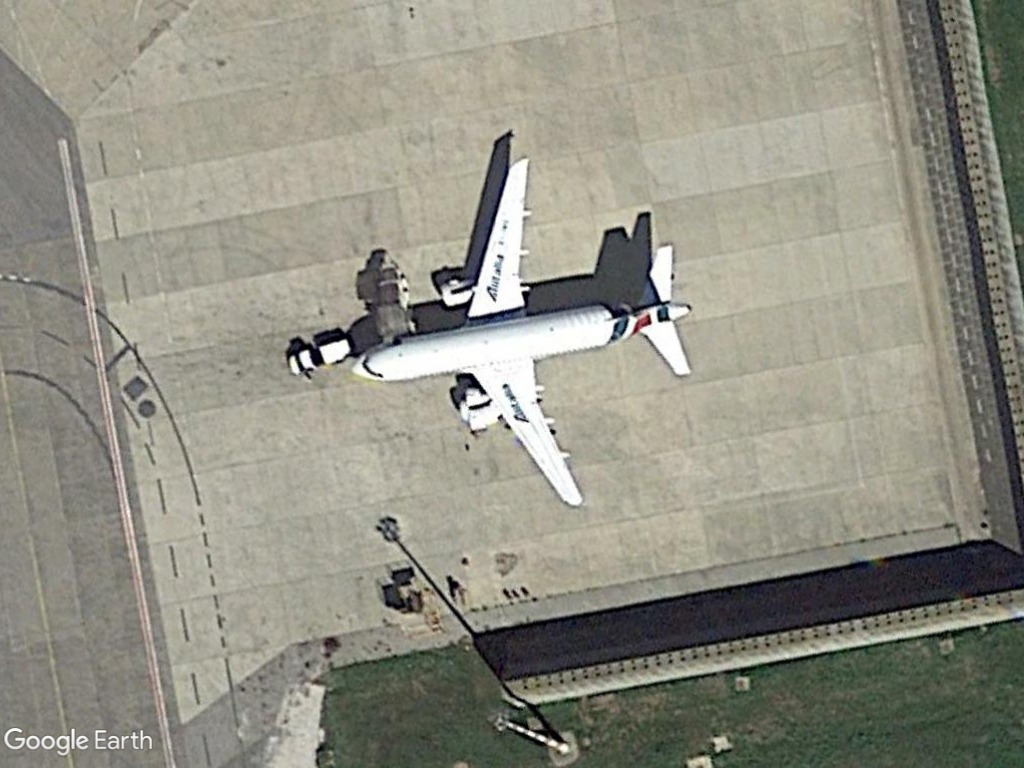airliner: (348, 158, 698, 518)
other: (280, 334, 353, 380)
